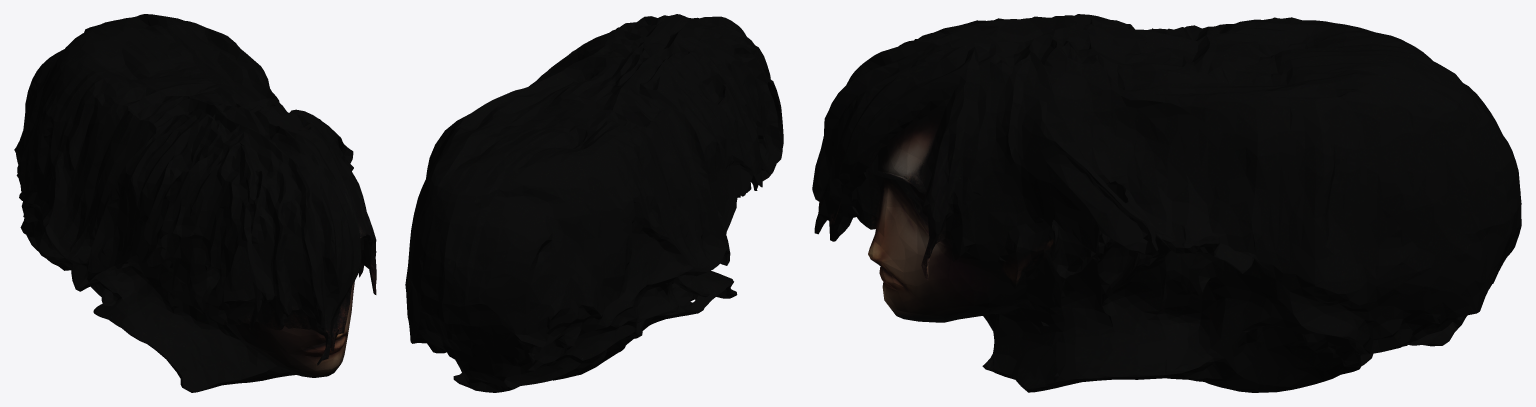
File: nereth_cabeza_alta_definicion.glb
The picture shows the model from 3 angles, left to right: view 1: azimuth 30°, elevation 25°; view 2: azimuth 150°, elevation 25°; view 3: azimuth 270°, elevation 25°; orthographic projection. The views are drawn at different scales.
Parts seen in each view (by area): view 1: world; view 2: world; view 3: world.
Boxes of the visible parts, x1,y1,x2,y2 form: world: (14, 14, 376, 392); world: (405, 14, 783, 392); world: (812, 14, 1521, 392).
Size of the model in its own units: 0.5541 by 0.5011 by 0.9986.
1 material, 1 textured.
